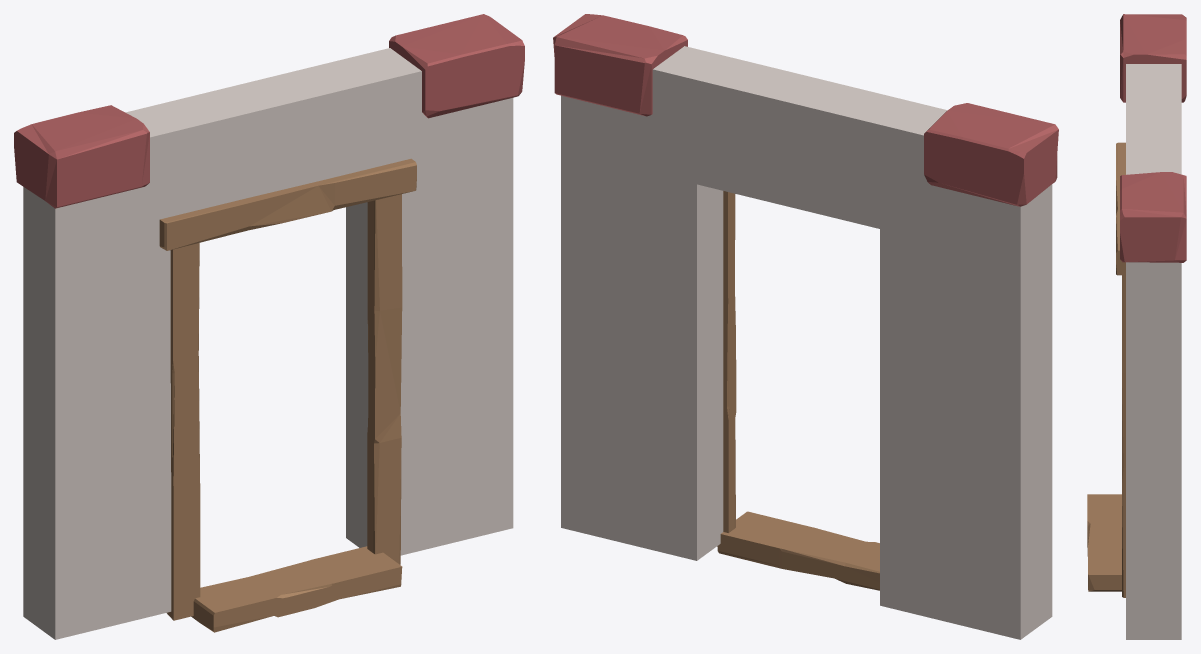
File: PK_Wall_Door.fbx
3 renders of one model, left to right at view 1: azimuth 30°, elevation 25°; view 2: azimuth 150°, elevation 25°; view 3: azimuth 270°, elevation 25°, orthographic. The views are drawn at different scales.
Visible parts, largest first — view 1: PK_Wall_Door; view 2: PK_Wall_Door; view 3: PK_Wall_Door.
Boxes of the visible parts, x1=… form: PK_Wall_Door: x1=14, y1=14, x2=524, y2=639; PK_Wall_Door: x1=553, y1=14, x2=1058, y2=639; PK_Wall_Door: x1=1087, y1=14, x2=1186, y2=639.
Size of the model in its own units: 206 by 209 by 43.
